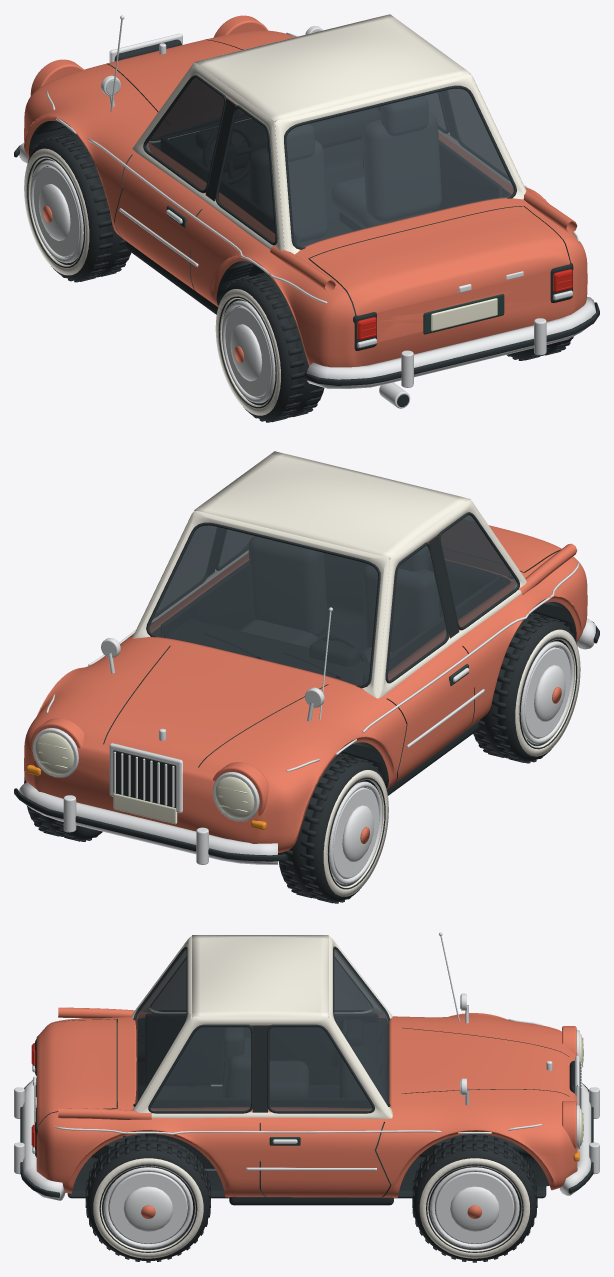
The model's file is dover.fbx.
3 views of the same model, one above another, from view 1: azimuth 30°, elevation 25°; view 2: azimuth 150°, elevation 25°; view 3: azimuth 270°, elevation 25° (orthographic). The views are drawn at different scales.
Parts seen in each view (by area): view 1: Body, Wheel_RL_Mesh, Wheel_FL_Mesh; view 2: Body, Wheel_FL_Mesh, Wheel_RL_Mesh, Wheel_FR_Mesh; view 3: Body, Wheel_FR_Mesh, Wheel_RR_Mesh.
Boxes of the visible parts, x1,y1,x2,y2 form: Body: (14, 14, 599, 408); Wheel_RL_Mesh: (215, 272, 324, 422); Wheel_FL_Mesh: (24, 132, 131, 282); Body: (14, 451, 599, 864); Wheel_FL_Mesh: (278, 753, 388, 903); Wheel_RL_Mesh: (473, 613, 580, 763); Wheel_FR_Mesh: (24, 775, 102, 841); Body: (14, 932, 599, 1205); Wheel_FR_Mesh: (412, 1135, 537, 1262); Wheel_RR_Mesh: (85, 1135, 210, 1262).
Bounding box in the file's own units: 201 × 168 × 377.
